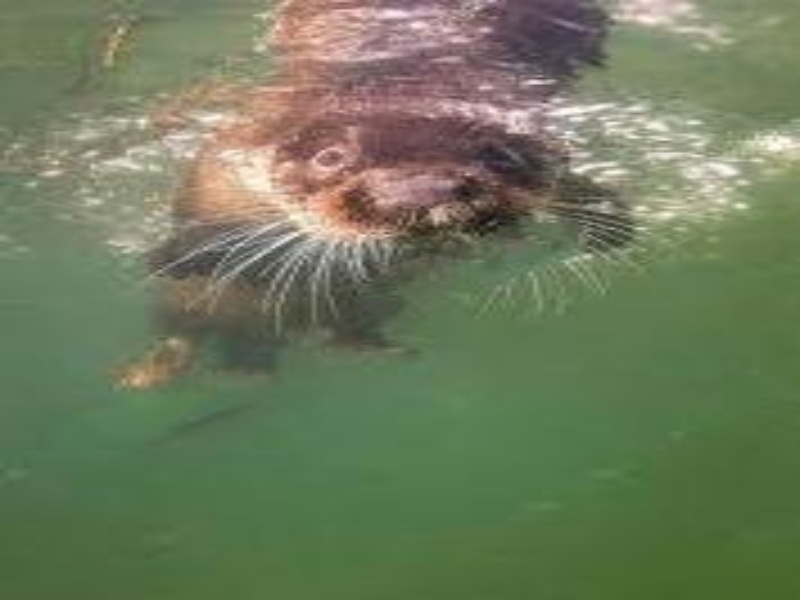minkish: (171, 2, 640, 285)
